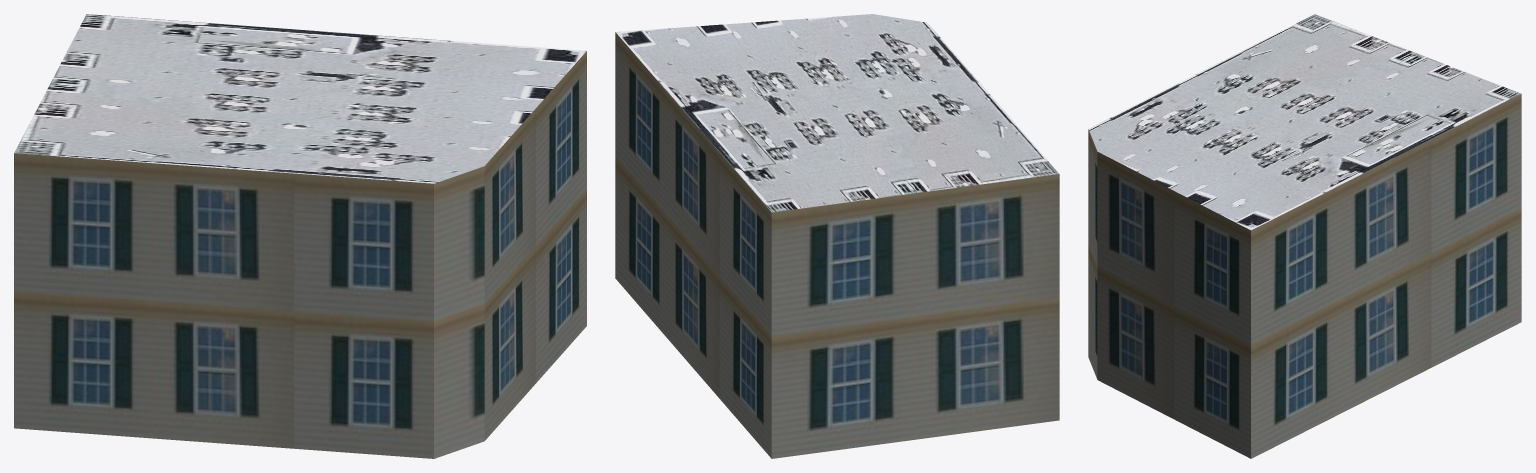
File: ResTex__282.fbx
3 renders of one model, left to right at view 1: azimuth 30°, elevation 25°; view 2: azimuth 150°, elevation 25°; view 3: azimuth 270°, elevation 25°, orthographic. The views are drawn at different scales.
Parts seen in each view (by area): view 1: CityEngineMaterial_7_m, CityEngineMaterial_4_m; view 2: CityEngineMaterial_7_m, CityEngineMaterial_4_m; view 3: CityEngineMaterial_7_m, CityEngineMaterial_4_m.
Boxes of the visible parts, x1,y1,x2,y2 form: CityEngineMaterial_7_m: [14, 51, 586, 458]; CityEngineMaterial_4_m: [14, 14, 586, 183]; CityEngineMaterial_7_m: [615, 32, 1059, 458]; CityEngineMaterial_4_m: [615, 14, 1058, 212]; CityEngineMaterial_7_m: [1088, 94, 1521, 458]; CityEngineMaterial_4_m: [1088, 14, 1520, 230].
Bounding box in the file's own units: 12.19 × 6 × 10.31.
2 materials, 2 textured.
